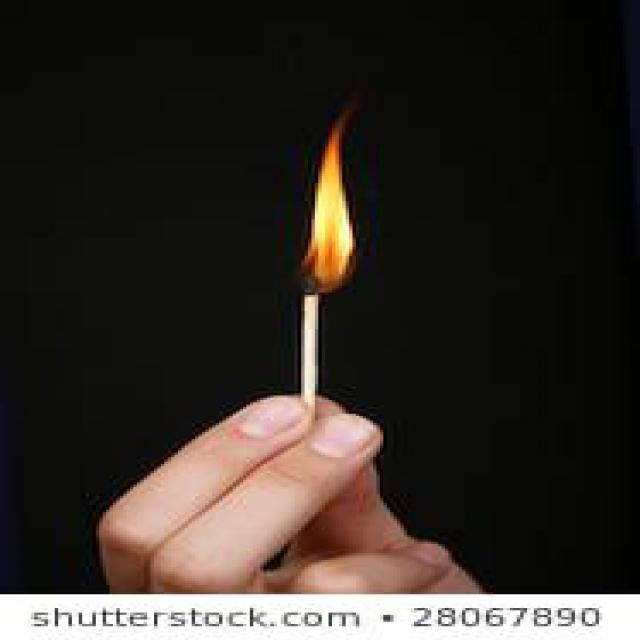Fire: (294, 110, 356, 295)
